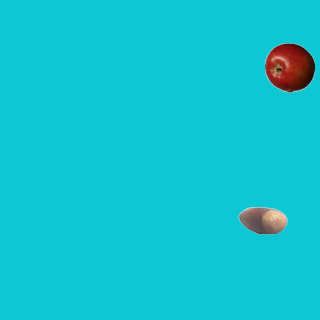Apple Braeburn: (264, 42, 314, 92)
Hazelnut: (237, 195, 287, 245)
